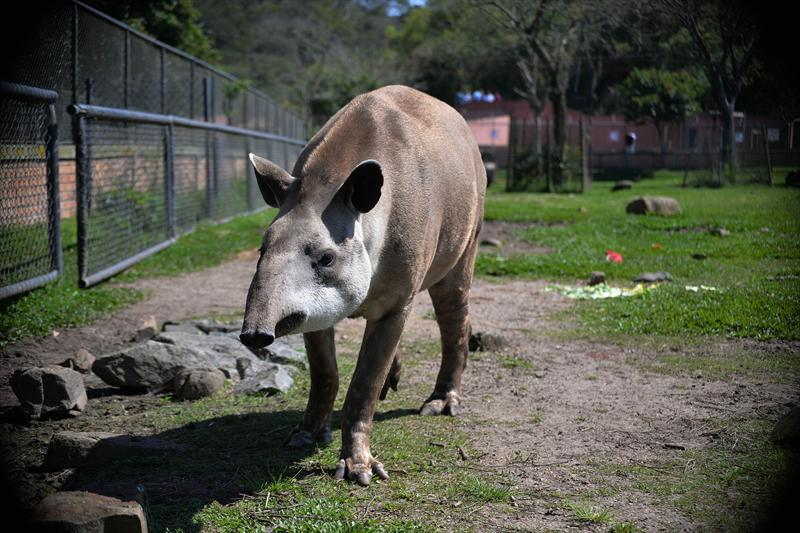Anta: (225, 79, 505, 491)
